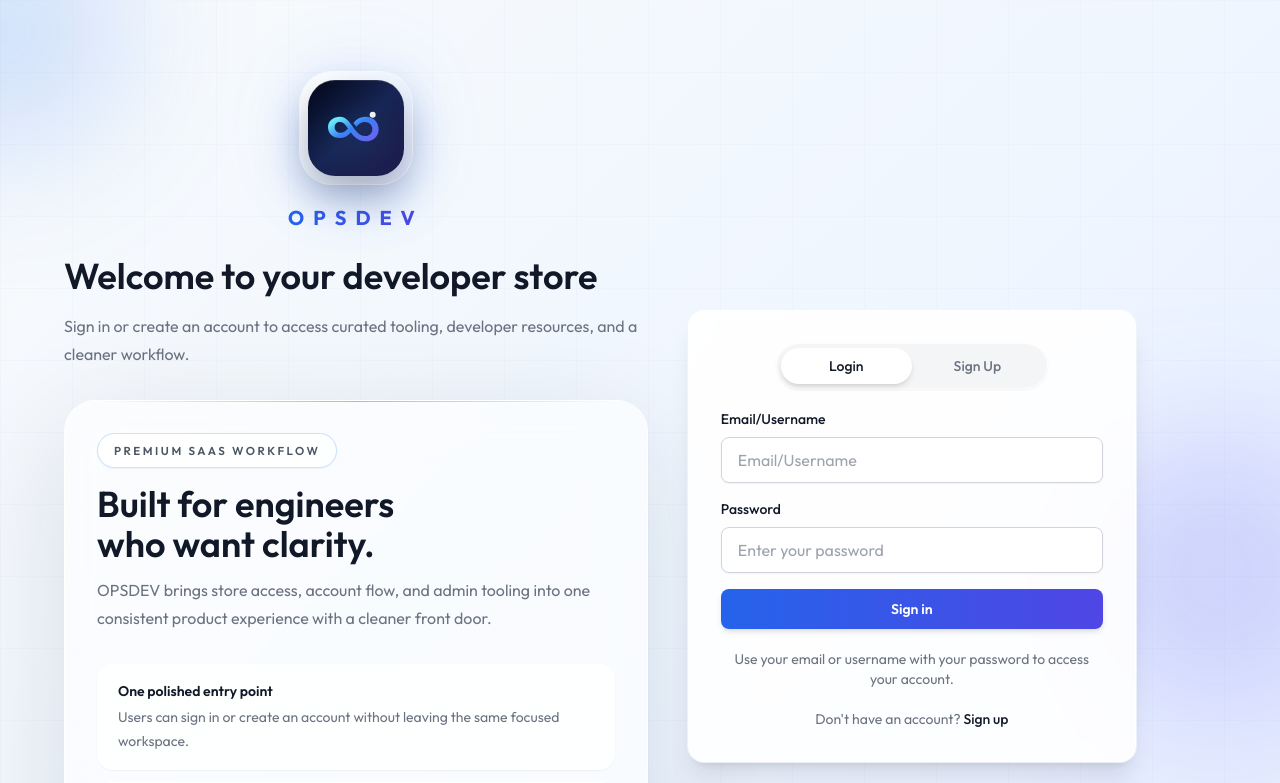
Scenario: App › switches to the signup experience on the account route
Click the tab "Sign Up". click: click(977, 366)
box: [912,348,1043,384]
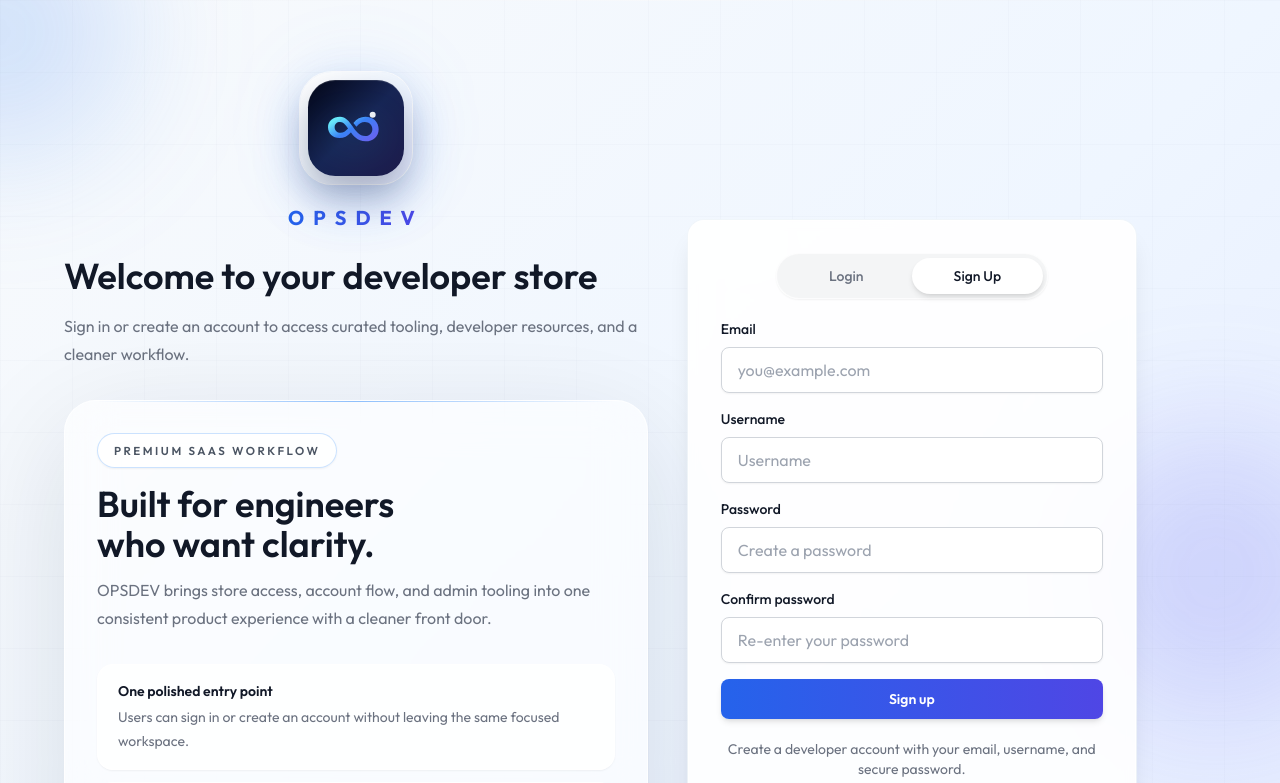
Expected: the field labelled "Username" is shown, [721,437,1103,483]
Expected: the password field labelled "Confirm password" is shown, [721,617,1103,663]
Expected: the button "Sign up" is shown, [721,679,1103,719]
